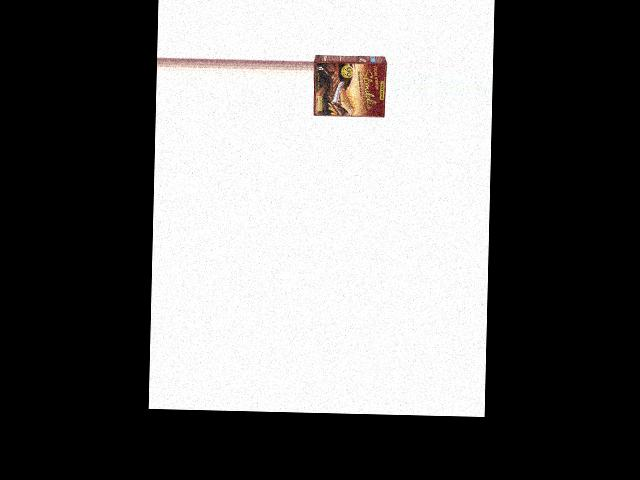chocolate: (312, 51, 388, 124)
